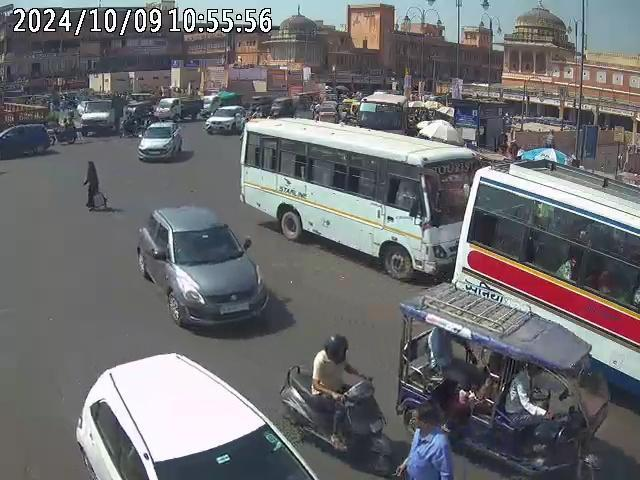auto: (397, 281, 615, 480), (121, 101, 155, 137)
bus: (453, 157, 640, 396), (238, 114, 483, 276)
car: (75, 351, 318, 480), (135, 205, 270, 334), (0, 122, 61, 160), (136, 122, 183, 163), (77, 97, 116, 136), (203, 105, 246, 135)
helmet: (322, 330, 349, 364)
person: (397, 402, 455, 479), (81, 160, 105, 211)
scooty-rider: (278, 330, 392, 466)
